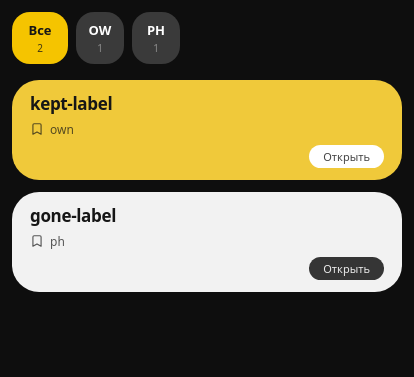
it: delete then failed GET drops the id and keeps other shelves
Click the button with class "idea-row" showing "gone-label" at (73, 216), box top-left (30, 206), bottom-right (384, 226)
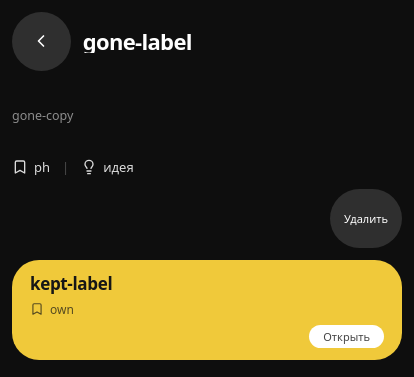
Check: the button with class "idea-card-delete" is shown
Click the button with class "idea-card-delete" at (366, 219), box top-left (330, 189), bottom-right (402, 248)
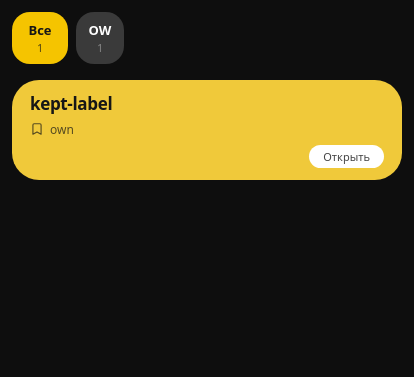
Check: the text "kept-label" is shown, box top-left (30, 94), bottom-right (384, 114)
Check: the element with class "idea-card" is gone
Check: the text "gone-label" is gone
